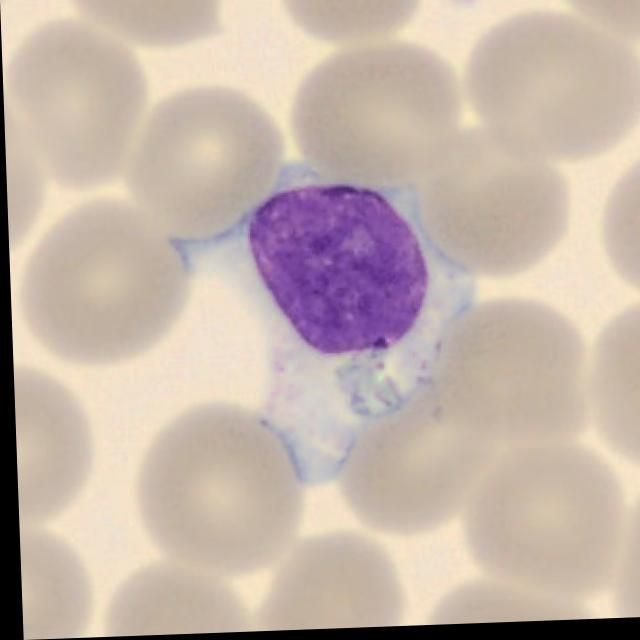Linfocito atipico: (167, 164, 471, 484)
